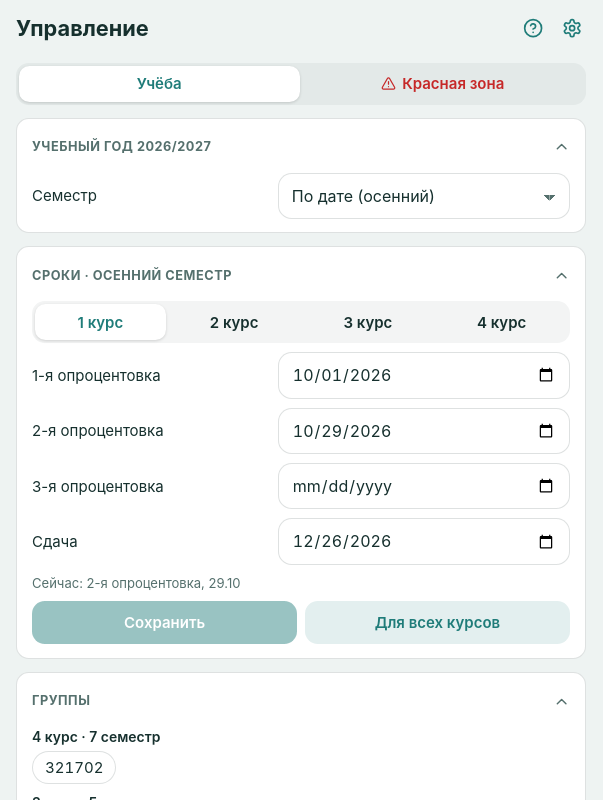
администратор › новую группу создать нельзя; при правке студента первая цифра — только из возможных
Step 1. Click the button "321702" → [74, 768], box x1=32 y1=751 x2=116 y2=784
(page scrolled)
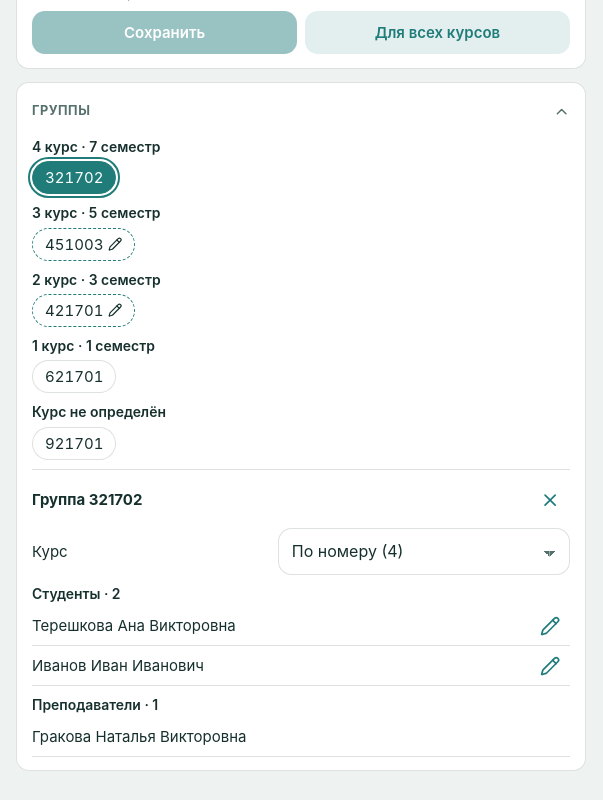
Step 2. Click the button named "Изменить: Терешкова Ана Викторовна" in the row of "Терешкова Ана Викторовна" → [550, 626], box x1=531 y1=606 x2=570 y2=645
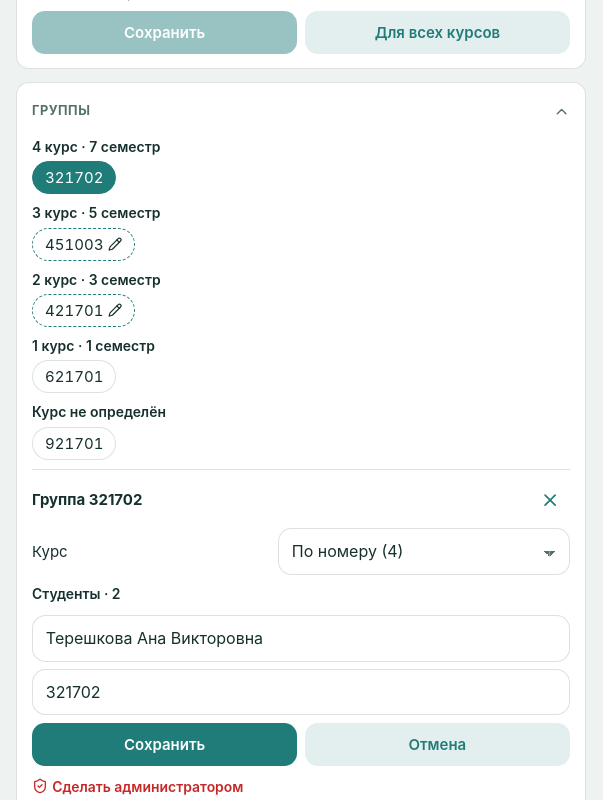
Step 3. Replace the text in the field named "Группа" with "0" → [301, 692], box x1=32 y1=669 x2=570 y2=716
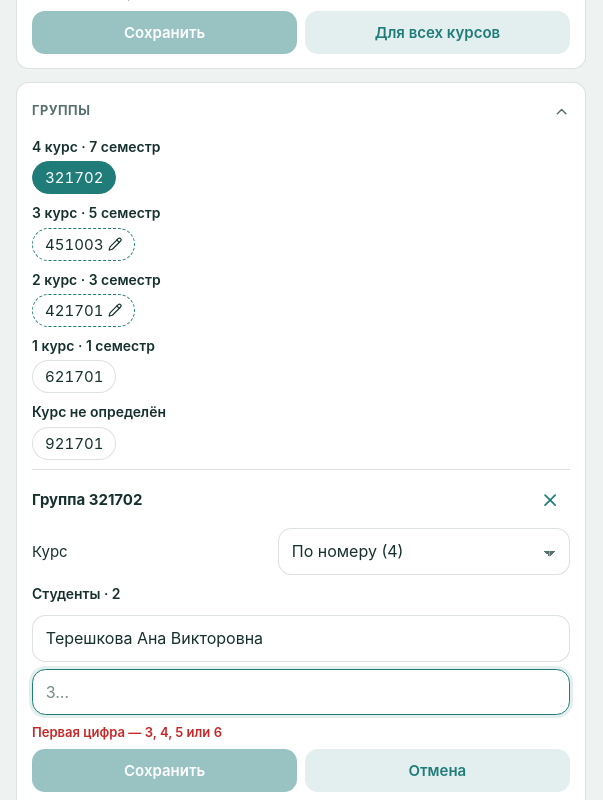
Expected: the text "Первая цифра — 3, 4, 5 или 6" is shown, x1=32 y1=724 x2=222 y2=740
